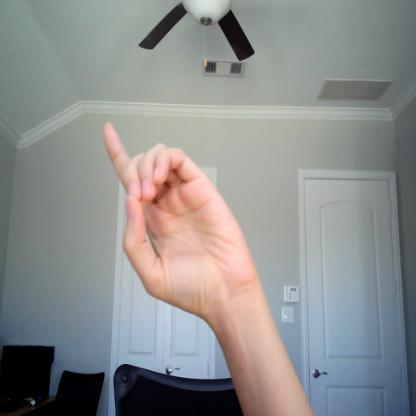D: (101, 117, 252, 310)
